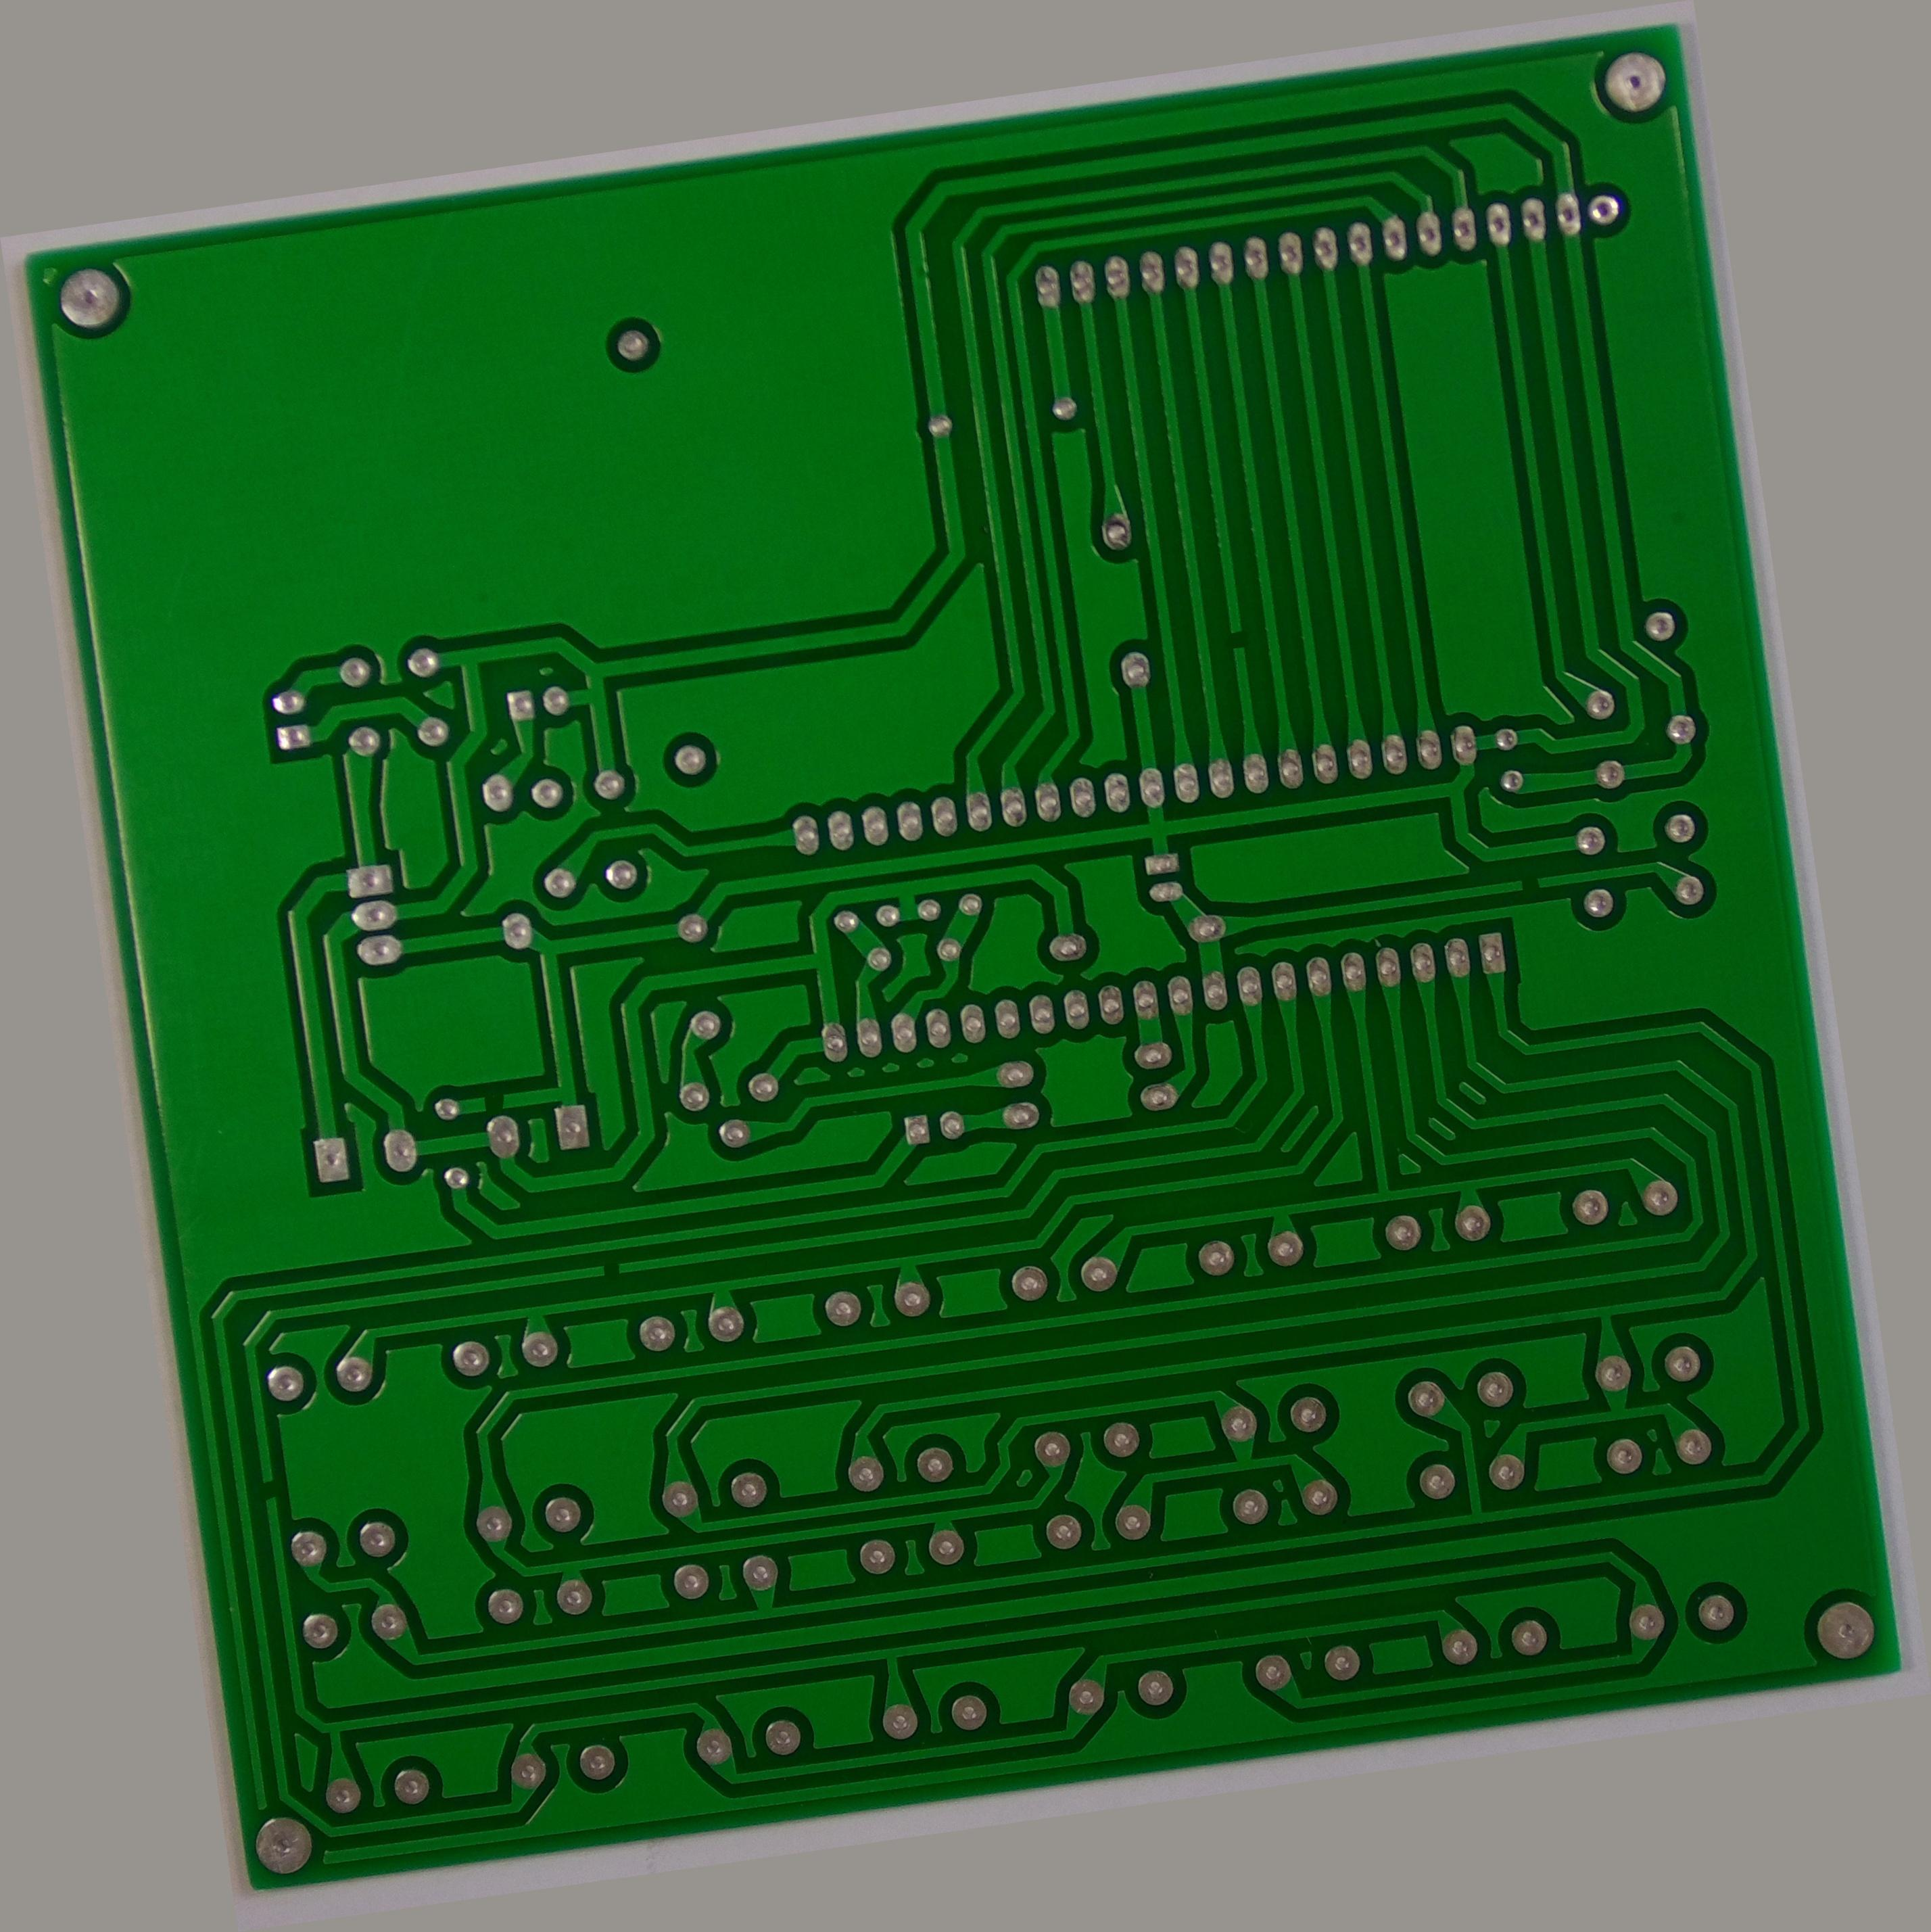open_circuit: (1584, 947, 1629, 982), (393, 1028, 437, 1062), (90, 1419, 117, 1463), (504, 1233, 538, 1267), (1303, 625, 1333, 660)
